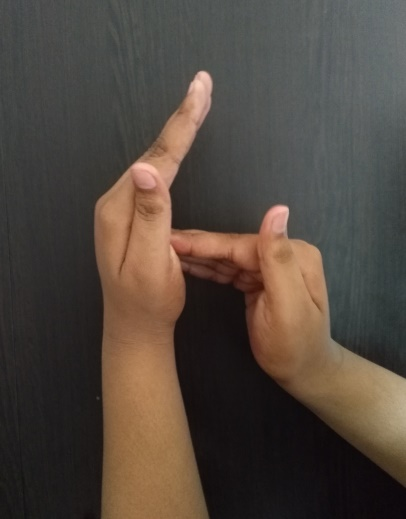ga: (93, 70, 335, 353)
